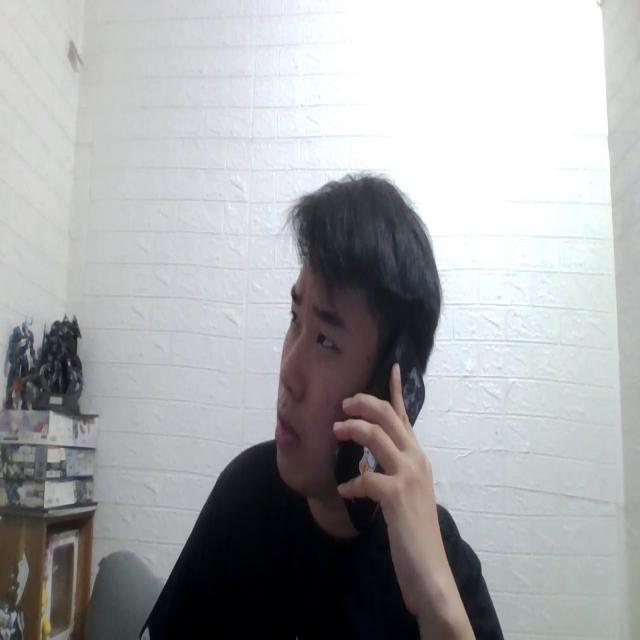phone: (336, 314, 428, 530)
student: (128, 170, 507, 640)
